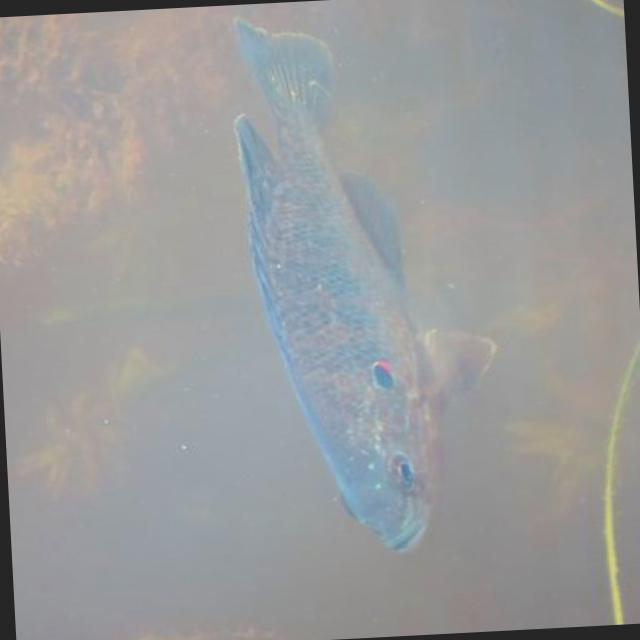Gunes Levregi: (222, 2, 521, 560)
